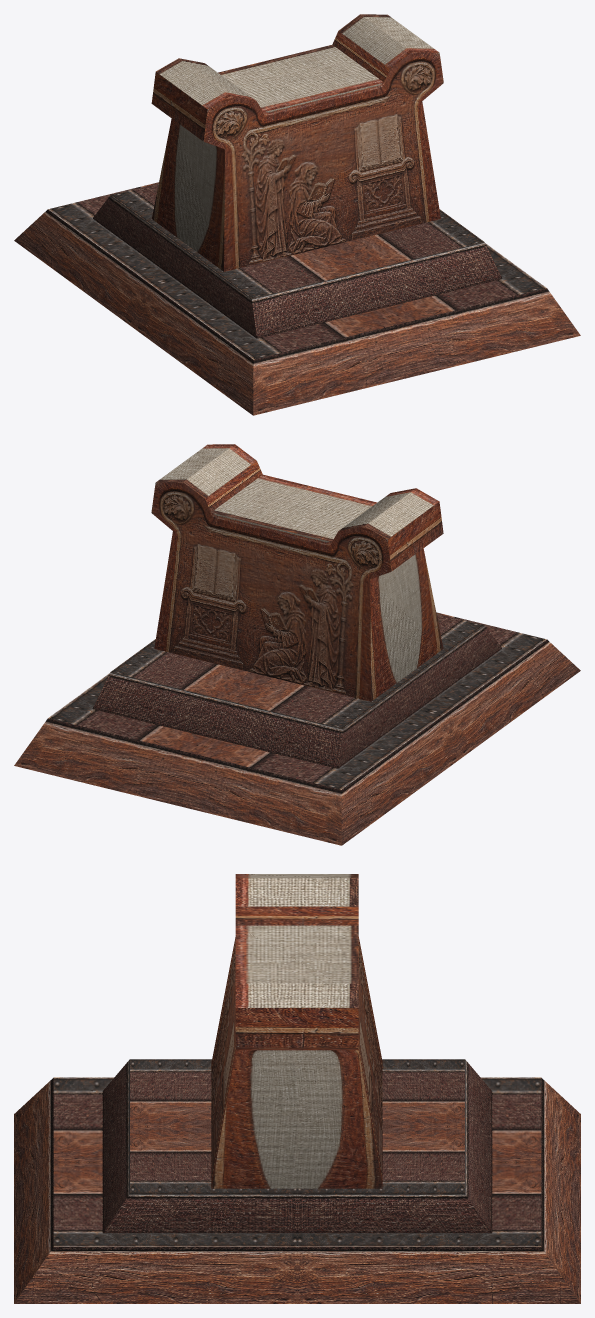
The model's file is mm9_deco_chair1.glb.
The picture shows the model from 3 angles, top to bottom: view 1: azimuth 30°, elevation 25°; view 2: azimuth 150°, elevation 25°; view 3: azimuth 270°, elevation 25°; orthographic projection. The views are drawn at different scales.
Visible parts, largest first — view 1: Chair1; view 2: Chair1; view 3: Chair1.
Part boxes in pixels (left/top/right/bottom): Chair1: left=14, top=14, right=580, bottom=415; Chair1: left=14, top=444, right=580, bottom=845; Chair1: left=14, top=874, right=580, bottom=1303.
Size of the model in its own units: 1.72 by 1.17 by 2.17.
Materials: 1 (1 with a texture image).
